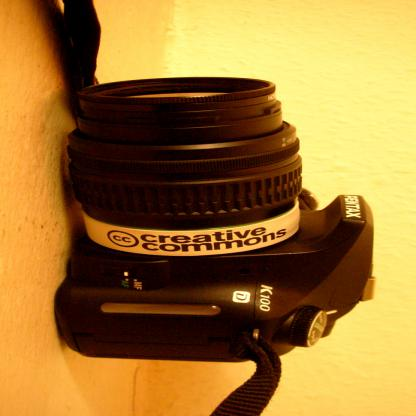Camera: (54, 75, 377, 366)
